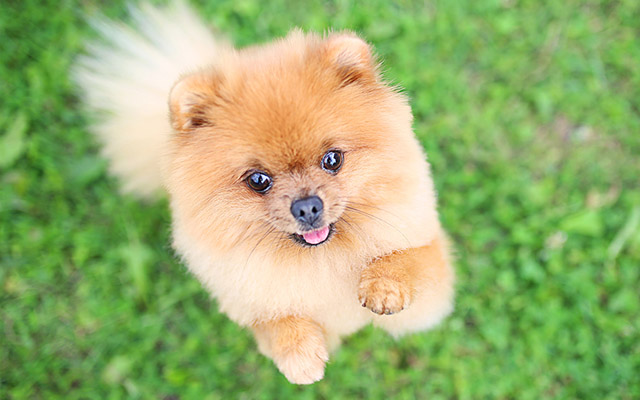dog: (165, 25, 456, 384)
